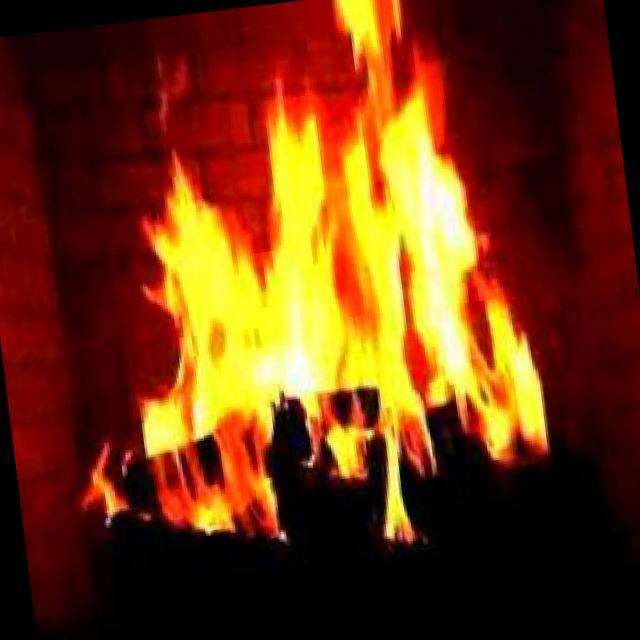Fire: (16, 0, 572, 602)
